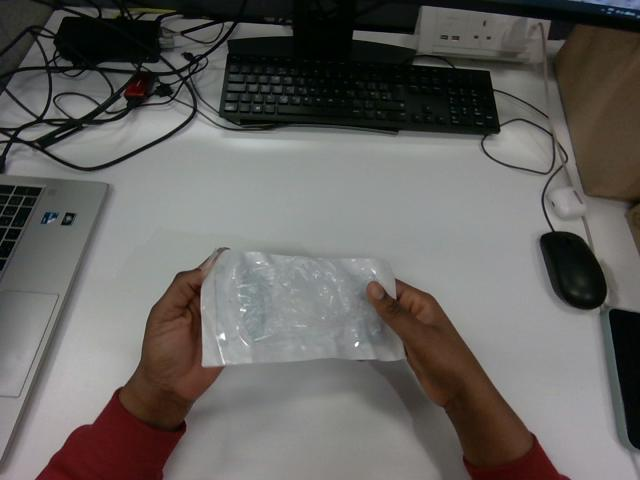gallipot: (201, 250, 403, 366)
